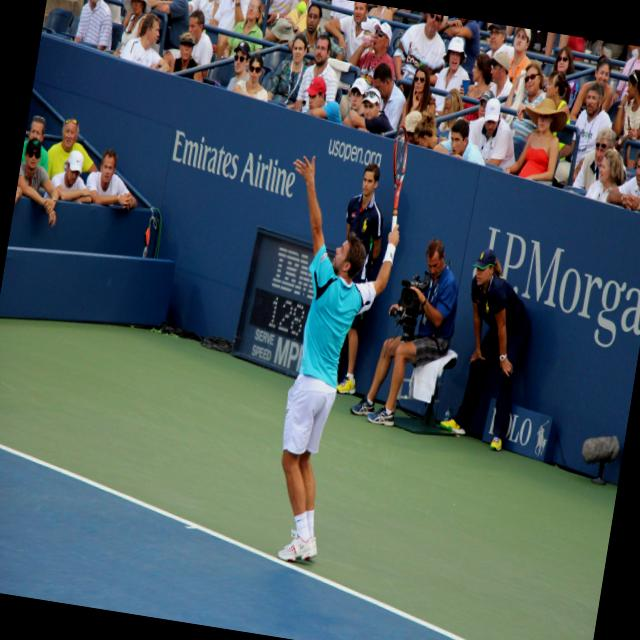Tennis ball: (297, 0, 308, 14)
